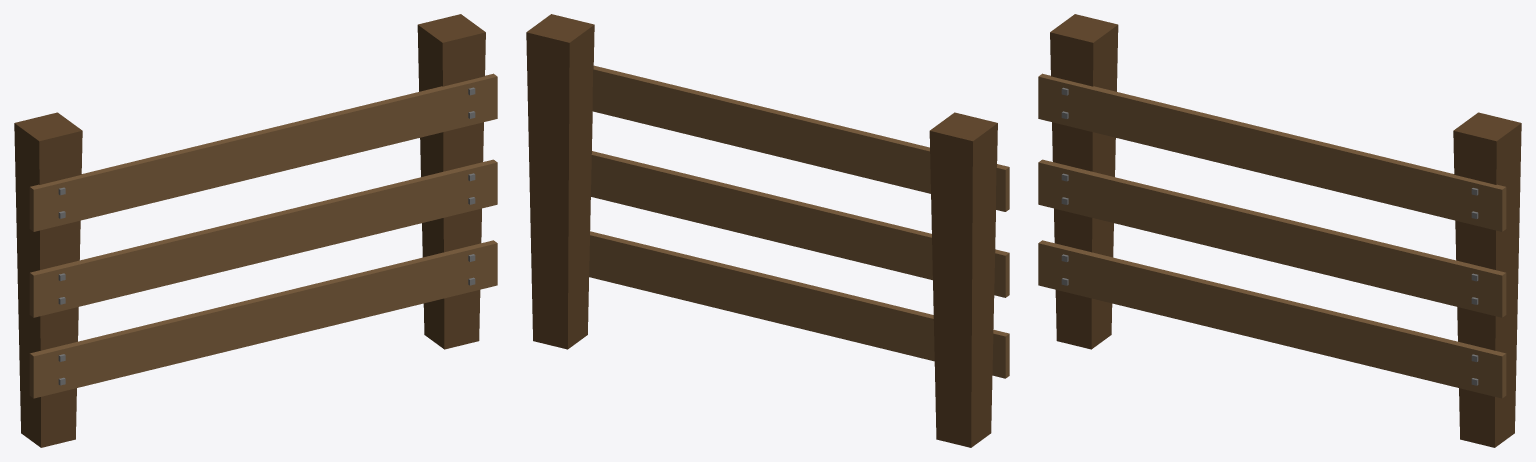
File: Mesh_Props_Fence_01.FBX
3 renders of one model, left to right at view 1: azimuth 30°, elevation 25°; view 2: azimuth 150°, elevation 25°; view 3: azimuth 330°, elevation 25°, orthographic.
Parts seen in each view (by area): view 1: Mesh_Props_Fence_01; view 2: Mesh_Props_Fence_01; view 3: Mesh_Props_Fence_01.
Part boxes in pixels (x1,y1,x2,y2): Mesh_Props_Fence_01: (14,14,497,447); Mesh_Props_Fence_01: (526,14,1009,447); Mesh_Props_Fence_01: (1038,14,1521,447).
Size of what is drawn, in the model's own units: 173 by 19.03 by 110.
